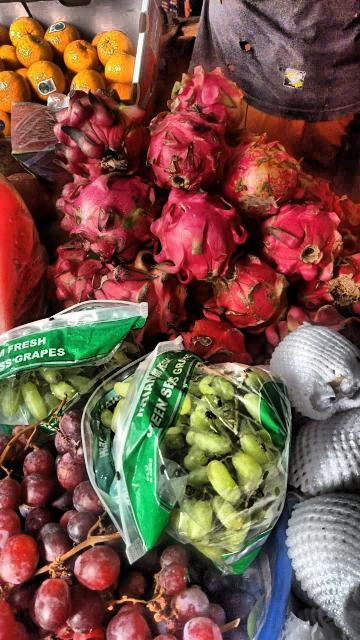buah-naga-belum-matang: (66, 176, 158, 260), (54, 92, 148, 174), (92, 260, 190, 334), (231, 132, 300, 215), (169, 65, 245, 129), (218, 267, 288, 327)
buah-naga-matang: (154, 192, 246, 278), (144, 111, 230, 192), (262, 204, 340, 278), (48, 242, 108, 308)
